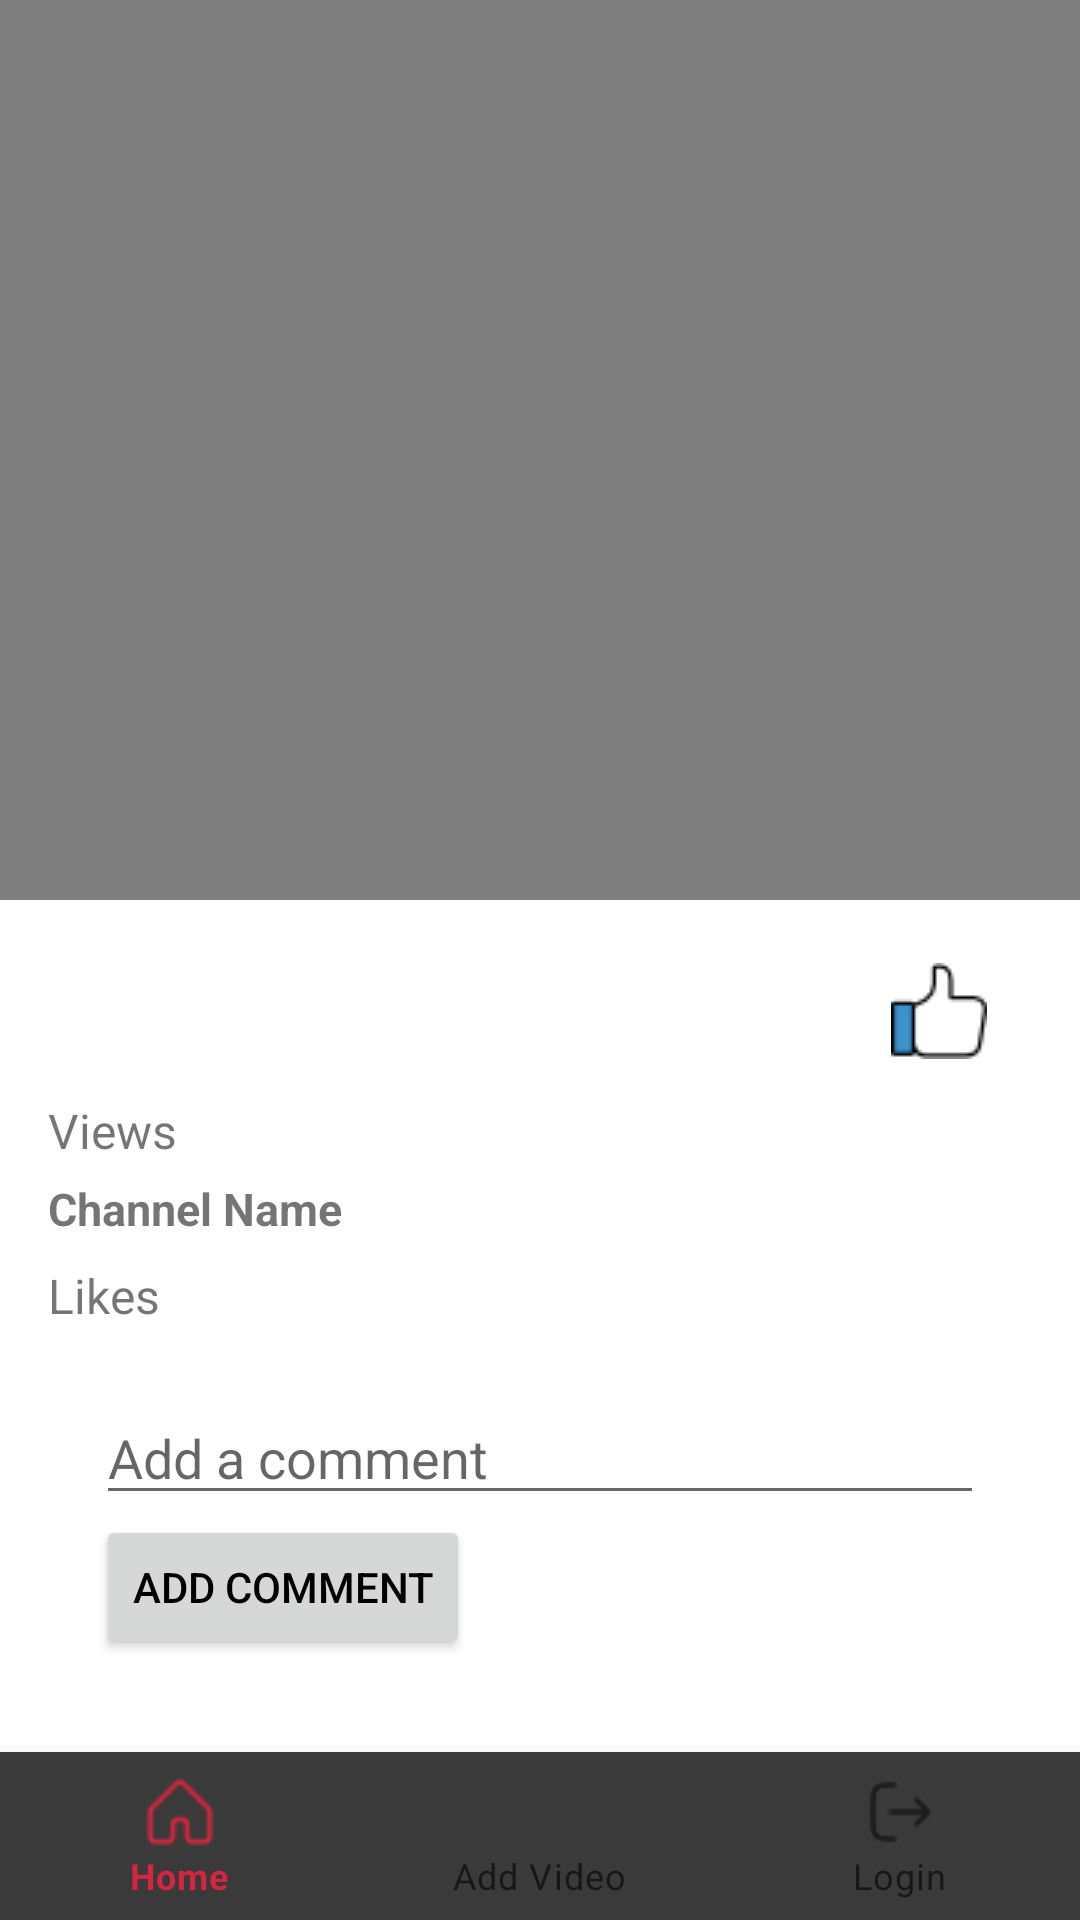

Icons on this 1080 x 1920 Android screen, each with the point to tap as [x,y]:
unliked: [939,1011]
